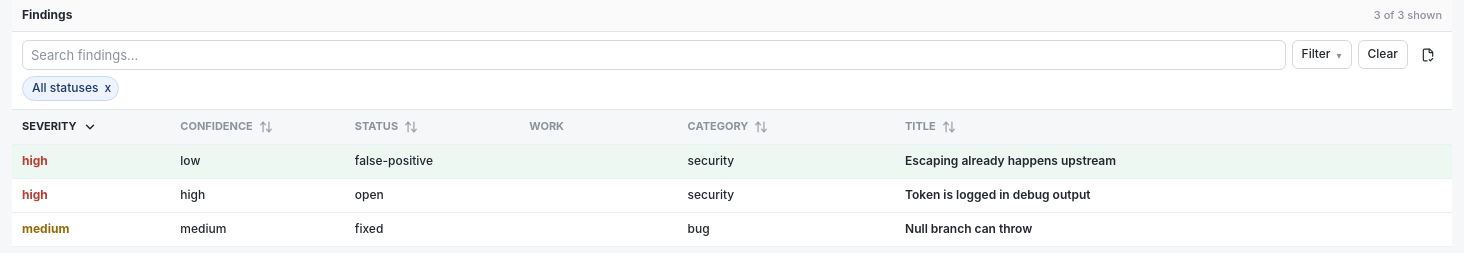
Test case: FindingsTable filters › keeps sort icons visible and hidden from accessible button names
The width and height of the screenshot is (1464, 253).
Expected: the 2nd icon is shown, [83, 120, 97, 134]
Expected: the 3rd icon is shown, [259, 120, 273, 134]
What coordinates should you click on to do the following:
click the button with aria-label "Sort by Confidence ascending"
I would click on:
 (264, 127)
Its box is [180, 117, 347, 137].
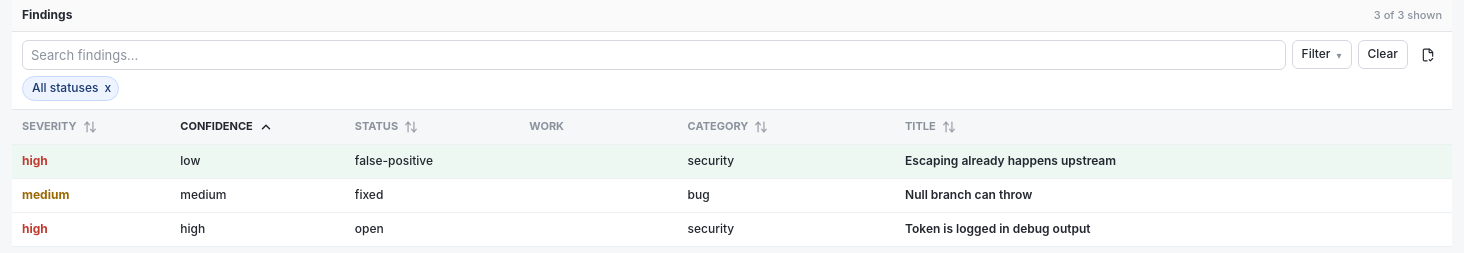
Expected: the 3rd icon is shown, [259, 120, 273, 134]
Result: the button with aria-label "Sort by Confidence descending" is shown at [180, 117, 347, 137]
